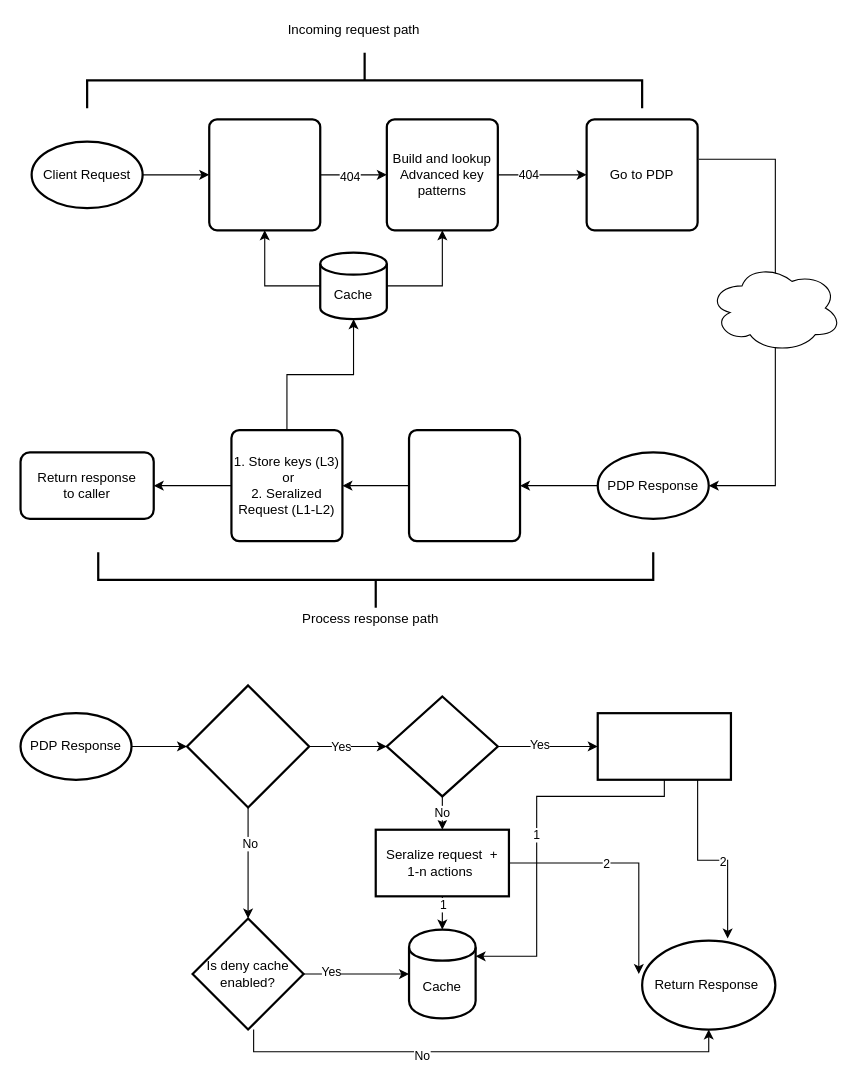
This 861x1081 diagram has some shape labels left out. Each missing label, with the centre of its shape:
Adv-Res-Obl returned?: (x=441, y=746)
Is Permit?: (x=247, y=746)
Look-up Seralized Request: (x=264, y=174)
PDP: (x=775, y=307)
Process Adv-Res-Obl key + 1-n actions: (x=663, y=746)
Process response Build cache keys if applicable: (x=464, y=485)
